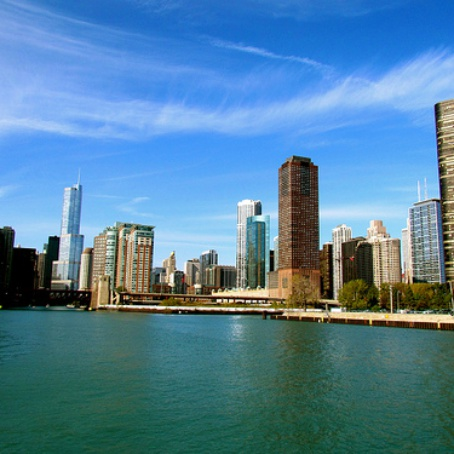building: (274, 155, 322, 311), (397, 194, 447, 292), (431, 102, 454, 286), (231, 191, 272, 288), (320, 221, 372, 297), (353, 219, 405, 295), (54, 173, 81, 295), (118, 219, 160, 292), (83, 219, 120, 286), (181, 250, 218, 290), (204, 260, 239, 290)
river: (1, 311, 454, 454)
sky: (1, 1, 454, 228)
